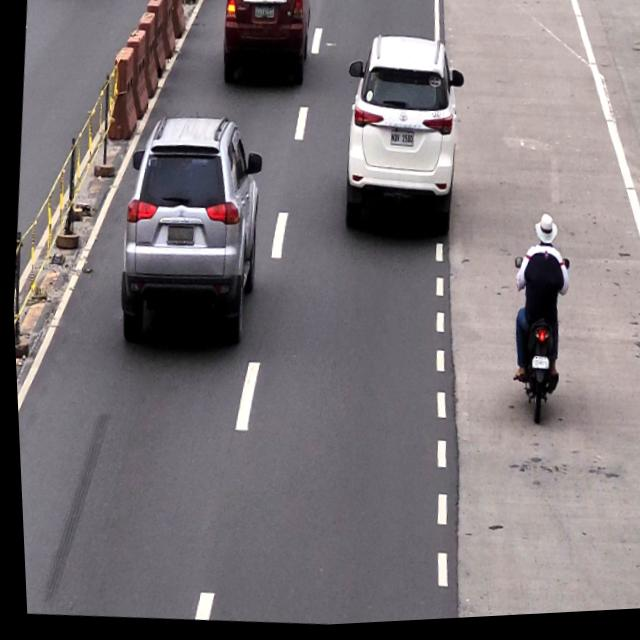Car: (110, 112, 269, 353), (333, 36, 465, 246), (217, 0, 316, 85)
License-Plate: (387, 131, 413, 155), (252, 4, 275, 25), (525, 360, 546, 378)
Motorcycle: (501, 222, 572, 432)
